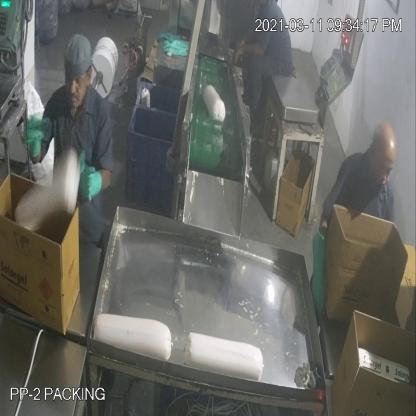glove: (309, 214, 331, 320), (78, 152, 108, 203)
no_glove: (228, 35, 269, 70)
